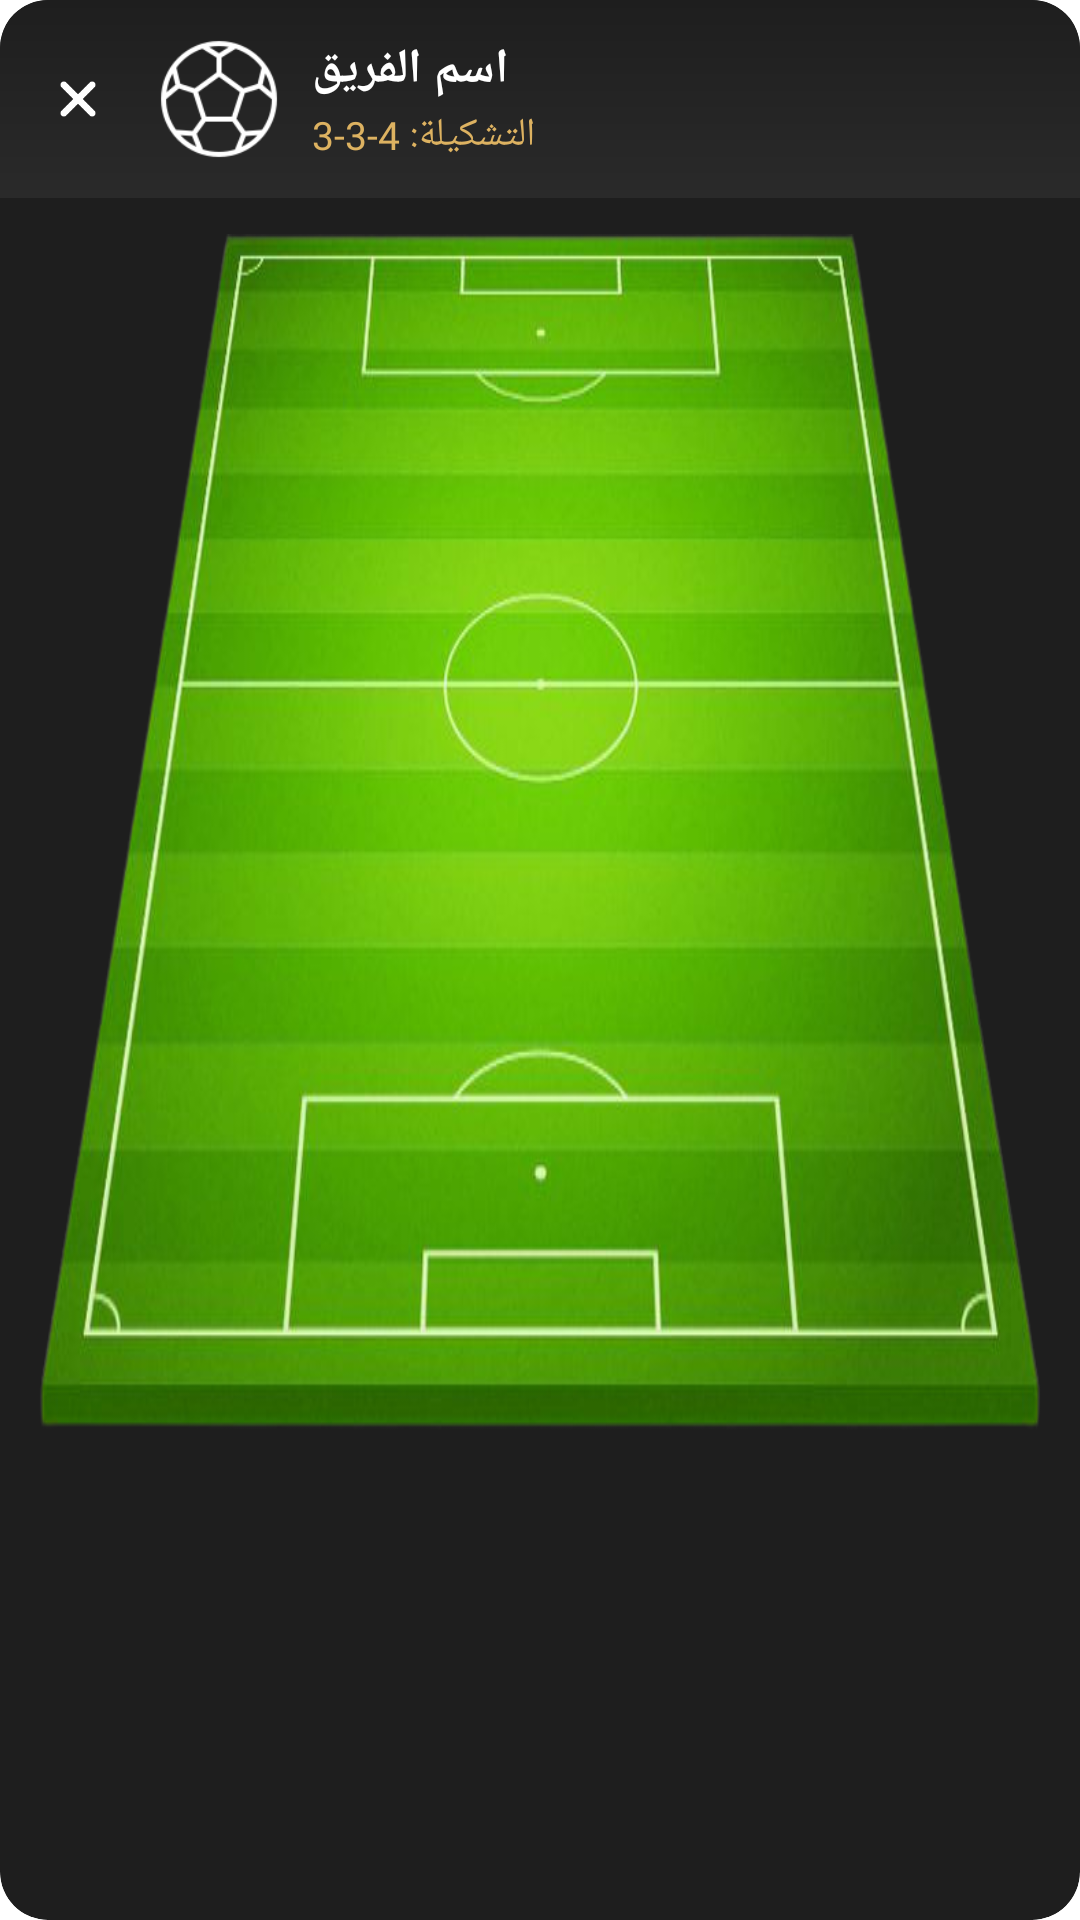

Where to tap for icons on this 1080w x 1920h app screen, as (x=x, y=y):
close: (x=78, y=99)
